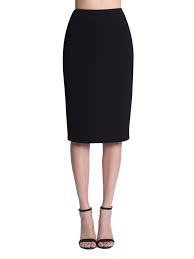F_tailored skirt: (59, 4, 146, 151)
